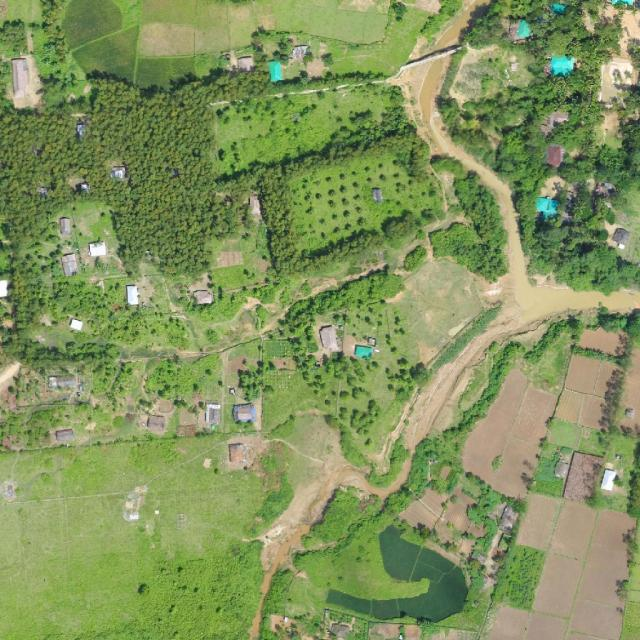agricultural_land: (452, 366, 580, 506), (454, 362, 534, 484), (554, 352, 617, 430), (546, 417, 584, 451)
building: (561, 449, 604, 505), (11, 55, 42, 108), (496, 505, 520, 535), (507, 19, 533, 44), (535, 196, 559, 220), (320, 324, 339, 353), (551, 56, 574, 76), (551, 457, 571, 480), (232, 404, 256, 423), (61, 254, 79, 277), (47, 375, 76, 389), (548, 144, 564, 167), (600, 468, 616, 491), (612, 226, 631, 245), (205, 403, 221, 425), (229, 443, 246, 463), (146, 415, 165, 431), (194, 289, 214, 304), (269, 60, 283, 81), (55, 429, 75, 443), (126, 284, 139, 305), (238, 56, 254, 71), (89, 242, 106, 256), (110, 166, 127, 180), (354, 346, 373, 358), (60, 217, 71, 235), (292, 46, 308, 58), (70, 318, 84, 331), (551, 4, 566, 15), (624, 407, 637, 419), (76, 124, 87, 137), (80, 181, 91, 192), (367, 336, 377, 347), (373, 189, 381, 202)
dryland: (233, 405, 362, 583)
greenland: (75, 78, 224, 274), (398, 323, 527, 507), (290, 506, 433, 639), (294, 530, 429, 600), (274, 407, 355, 508), (245, 440, 303, 542), (244, 362, 322, 433), (306, 481, 373, 553), (516, 309, 589, 366), (519, 324, 576, 395), (586, 483, 630, 512), (379, 486, 417, 518), (577, 427, 611, 459), (535, 479, 564, 497)
unmetalled_road: (226, 32, 640, 461), (342, 47, 640, 378), (387, 321, 515, 460), (364, 459, 421, 505)
